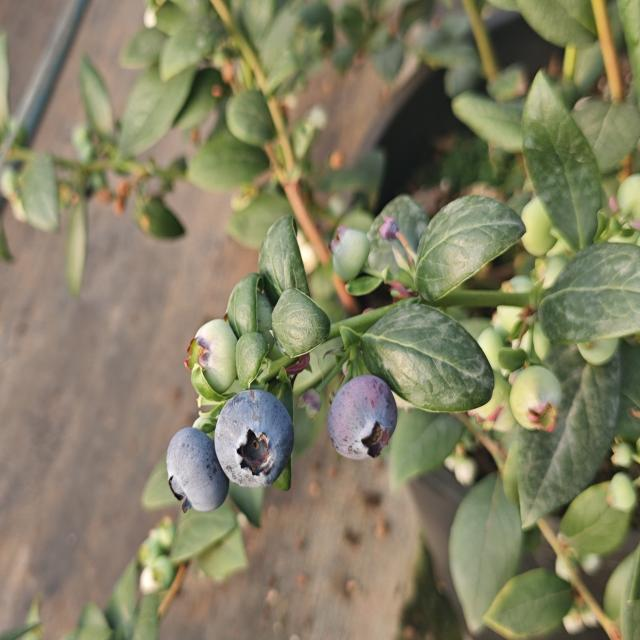ripe: (163, 411, 235, 515), (327, 361, 398, 462), (220, 394, 290, 494)
